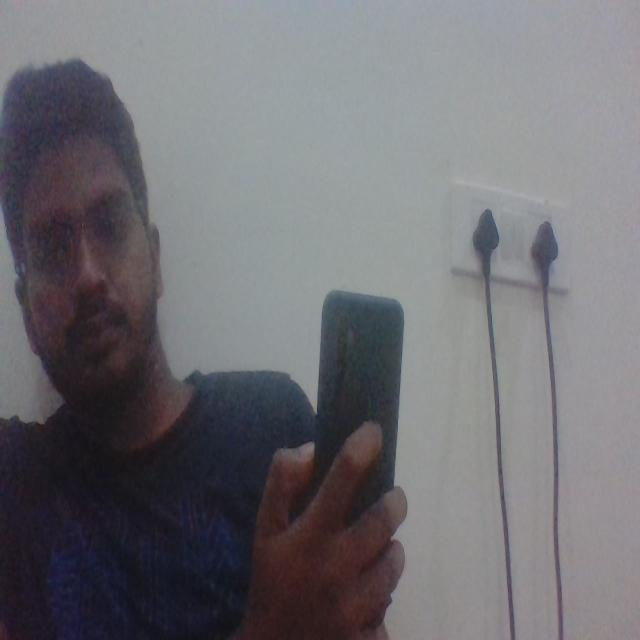Phone: (308, 288, 409, 499)
